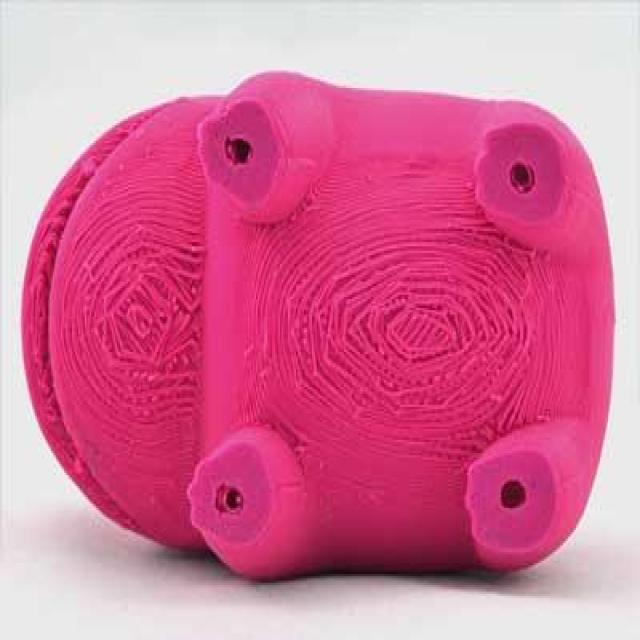spaghetti: (263, 215, 548, 443), (73, 225, 209, 412)
